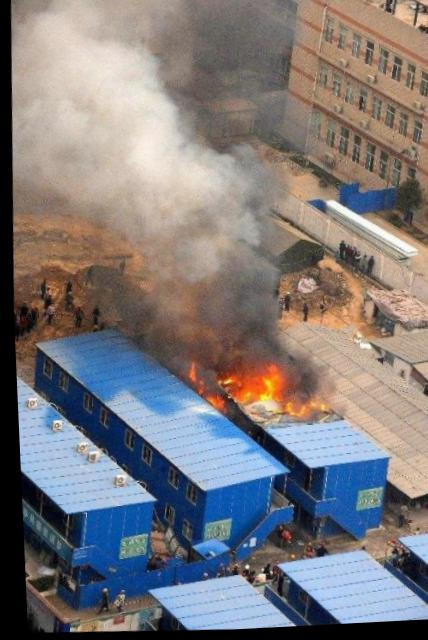fire: (179, 339, 331, 446)
